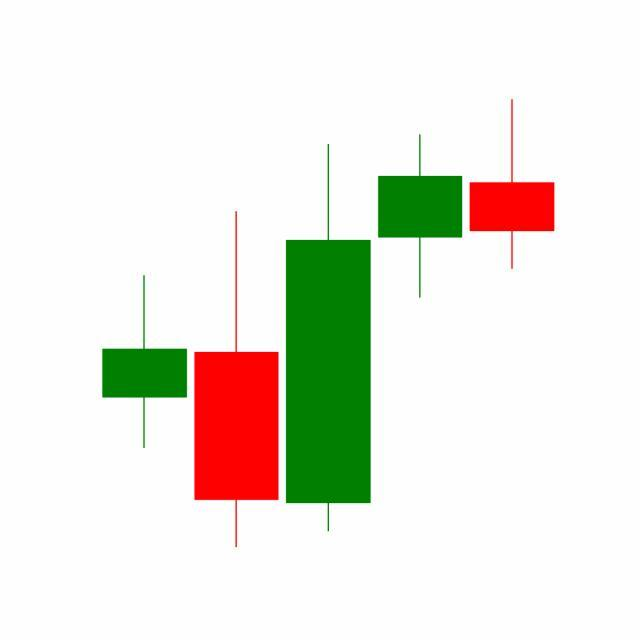Three Outside Up-Down: (190, 130, 467, 549)
